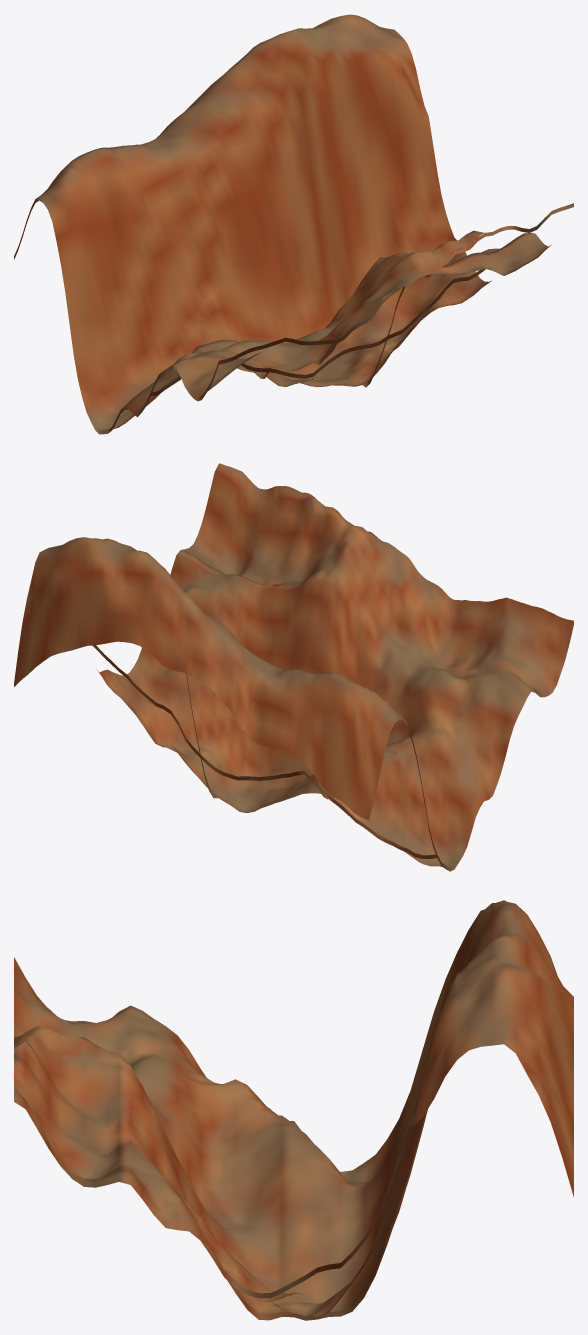
Rendered from terrain-038.glb.
3 views of the same model, one above another, from view 1: azimuth 30°, elevation 25°; view 2: azimuth 150°, elevation 25°; view 3: azimuth 270°, elevation 25° (orthographic). The views are drawn at different scales.
Visible parts, largest first — view 1: terrain-038; view 2: terrain-038; view 3: terrain-038.
Boxes of the visible parts, box(x1,y1,x2,y2) form: terrain-038: box(14, 14, 573, 434); terrain-038: box(14, 463, 573, 871); terrain-038: box(14, 900, 573, 1320).
Bounding box in the file's own units: 384 × 311 × 384.
